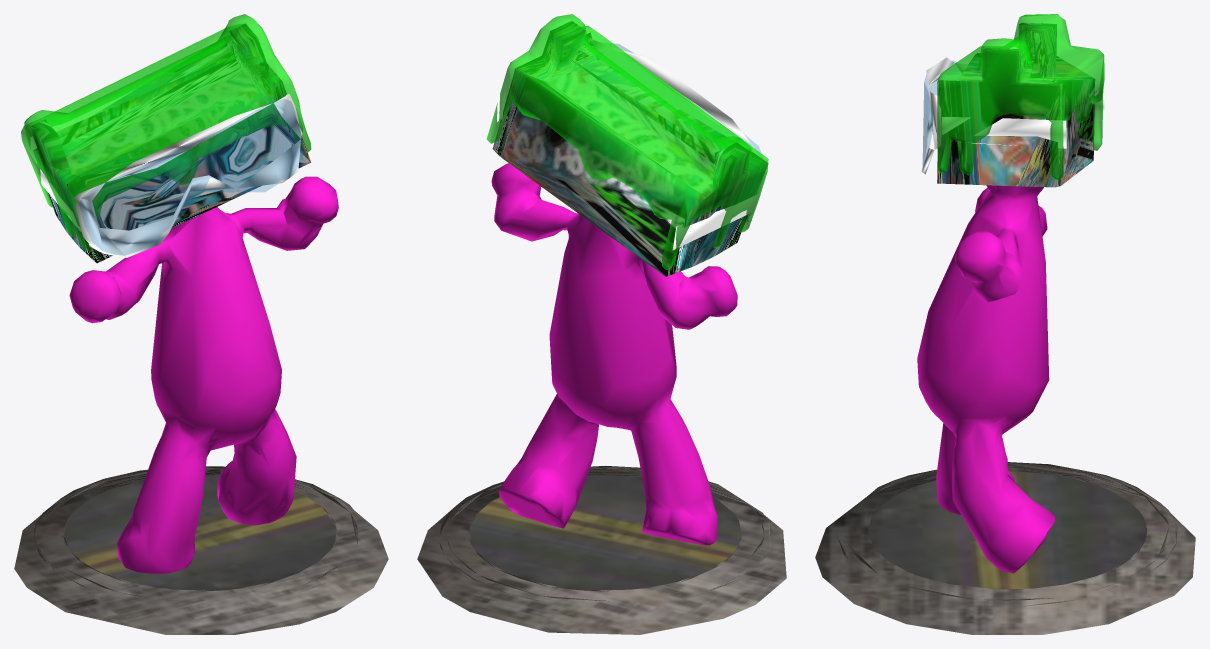
3 renders of one model, left to right at view 1: azimuth 30°, elevation 25°; view 2: azimuth 150°, elevation 25°; view 3: azimuth 270°, elevation 25°, orthographic. The views are drawn at different scales.
Bounding box in the file's own units: 1.43 × 2.23 × 1.43.
Materials: 8 (3 with a texture image).
